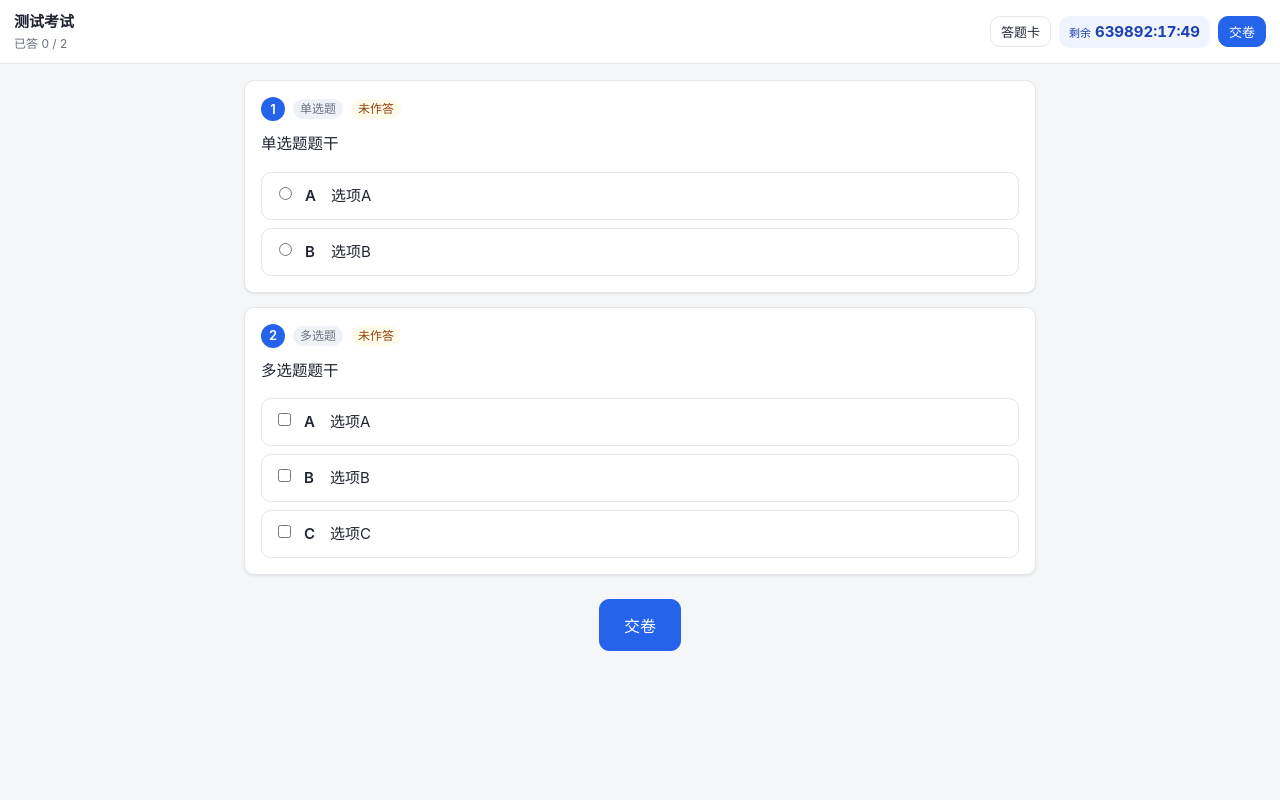
Test case: ExamView 选择语义 › 答题进度正确显示已答题数
This screenshot has width=1280, height=800.
Click the radio button labelled "A 选项A".
click(286, 193)  # box [279, 186, 292, 200]
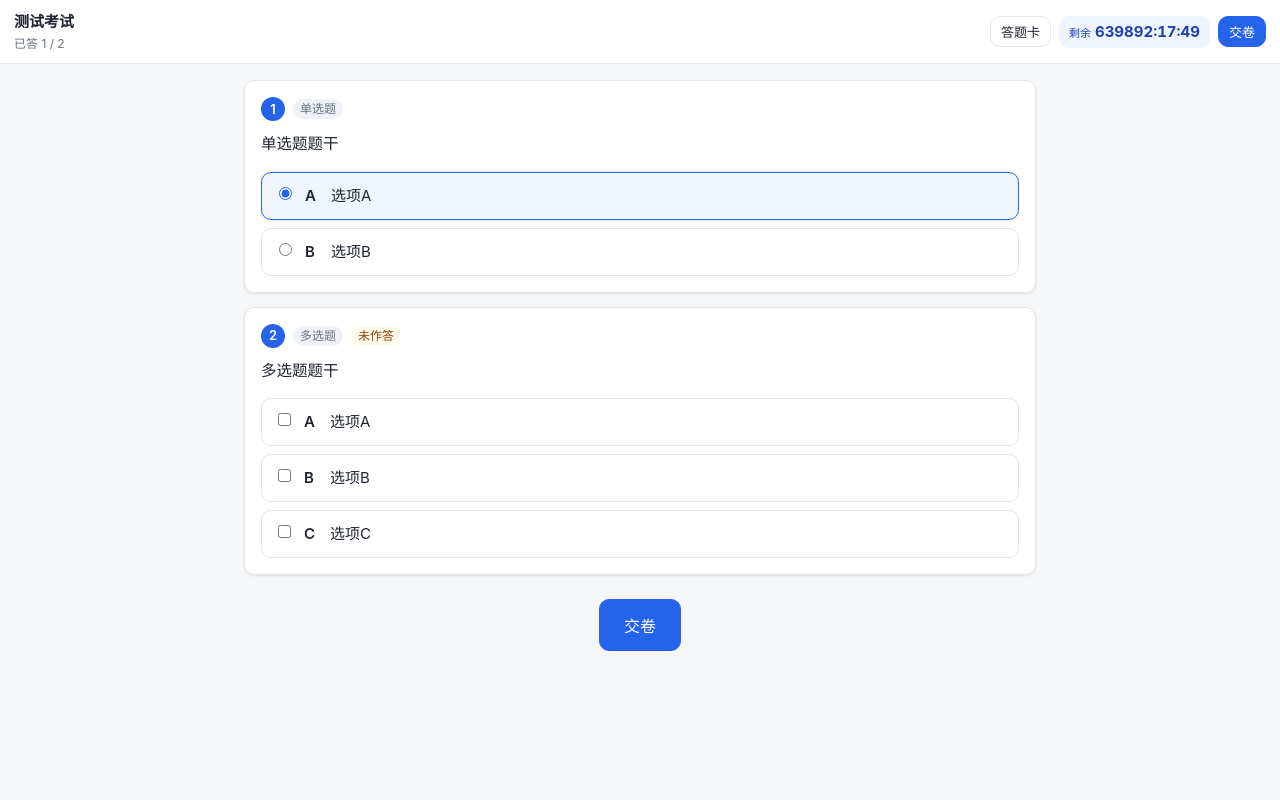
expect the text "已答 1 / 2" is shown: met, box [14, 36, 65, 51]
